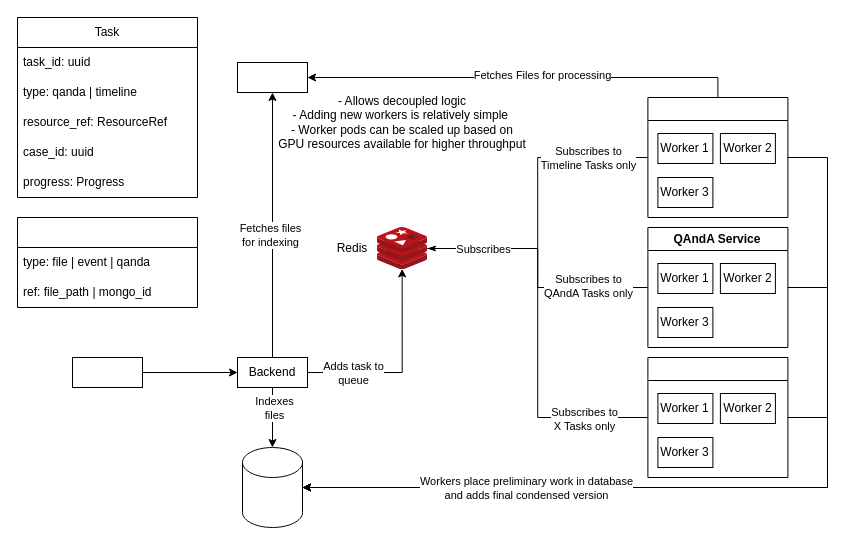
This 853x545 diagram has some shape labels left out. Here are the shapes that lost their labels. From the top down, the box of each, then its label:
(236, 62, 308, 92): Navision
(647, 96, 788, 218): Timeline Service
(16, 216, 198, 308): ResourceRef
(72, 356, 142, 388): Frontend
(647, 356, 788, 478): X Service
(242, 446, 302, 528): Mongo
